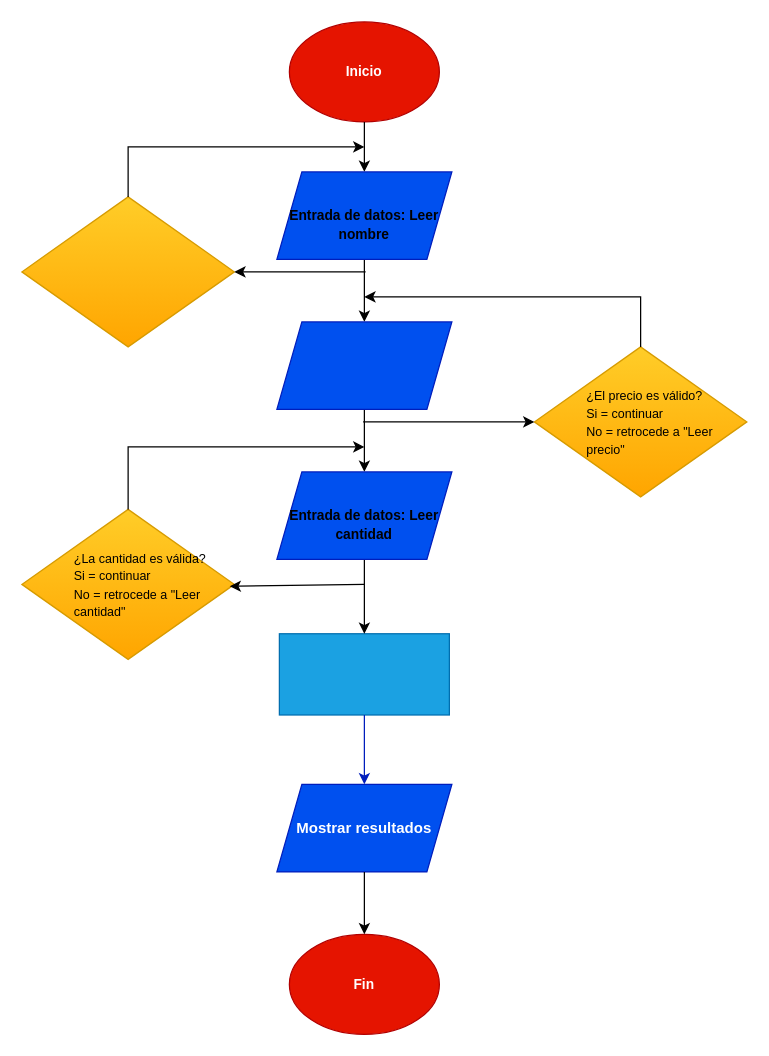
The diagram is 769 pixels wide and 1056 high, and some of its shapes have lost their labels. The centre of each missing label's shape, as x and y in pixels:
Calcular costo_total = precio * cantidad: point 363,673
Entrada de datos: Leer precio: point 364,365
¿El nombre es válido? Si = continuar No = retrocede a "Leer nombre": point 127,271
